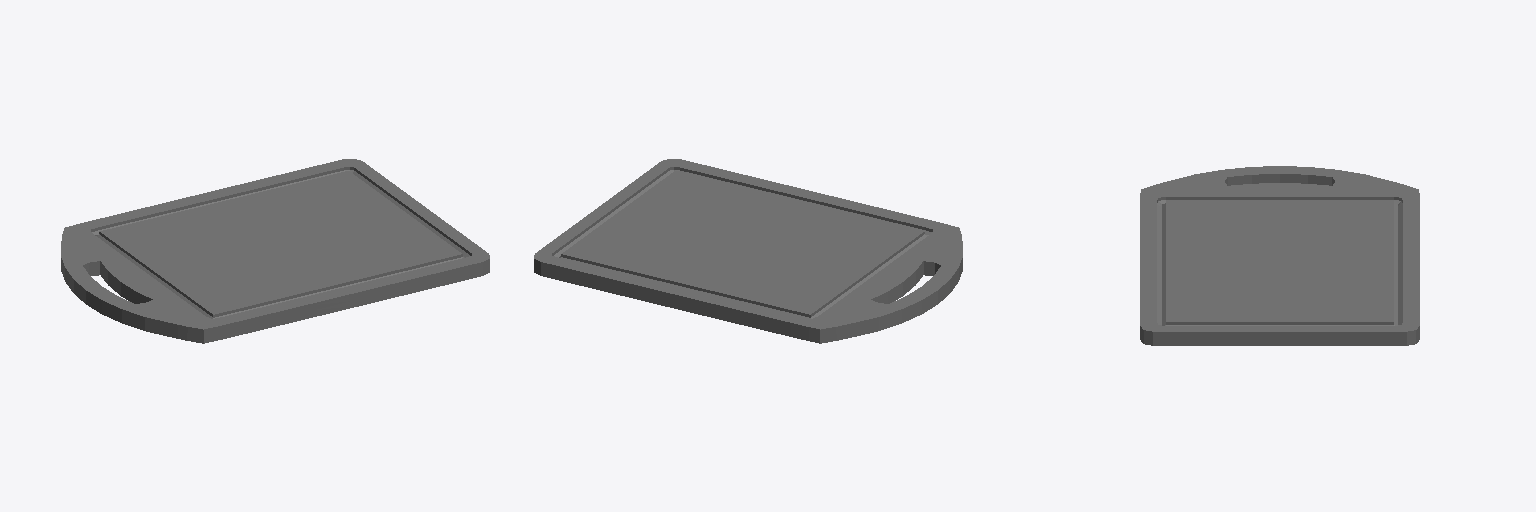
Rendered from Cutting_Board.obj.
The picture shows the model from 3 angles: view 1: azimuth 30°, elevation 25°; view 2: azimuth 150°, elevation 25°; view 3: azimuth 270°, elevation 25°; orthographic projection.
Visible parts, largest first — view 1: Board; view 2: Board; view 3: Board.
Boxes of the visible parts, x1,y1,x2,y2 form: Board: [61, 159, 489, 343]; Board: [534, 159, 962, 343]; Board: [1140, 166, 1419, 345].
Size of the model in its own units: 29.98 by 1.2 by 21.42.